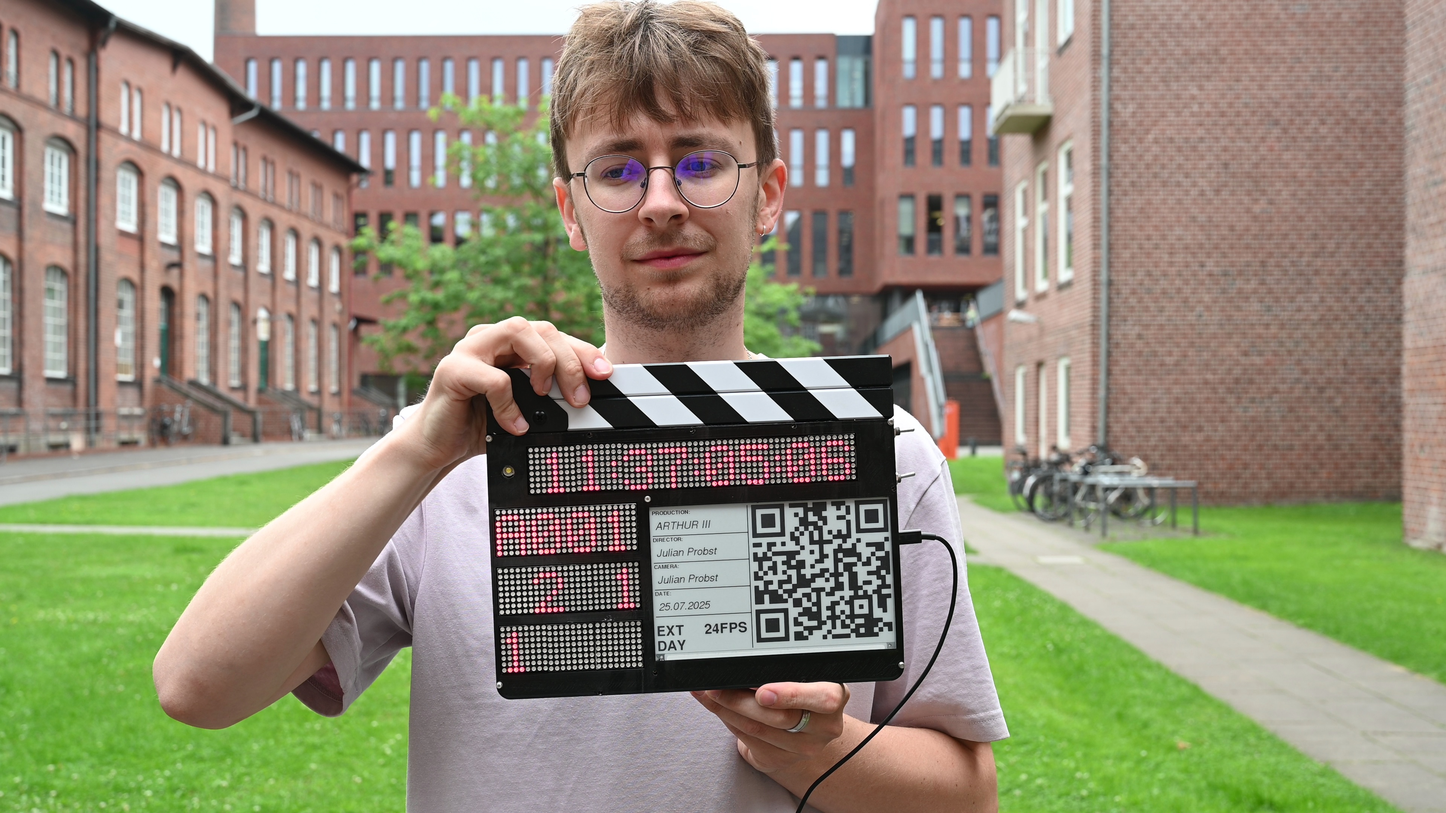ARC-SLATE: (484, 382, 908, 700)
